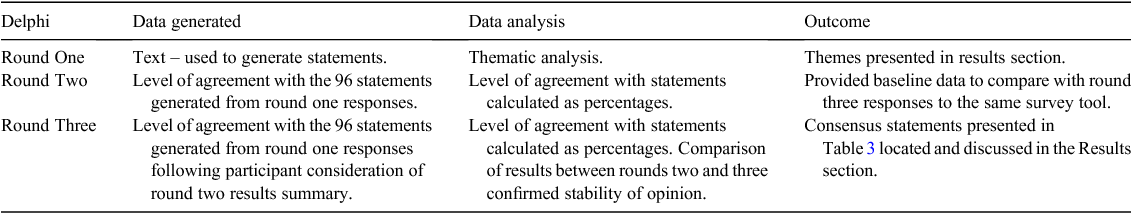fracking table: (2, 1, 1132, 213)
